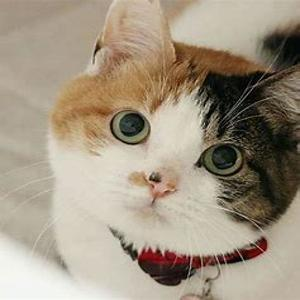cat: (53, 40, 295, 237)
